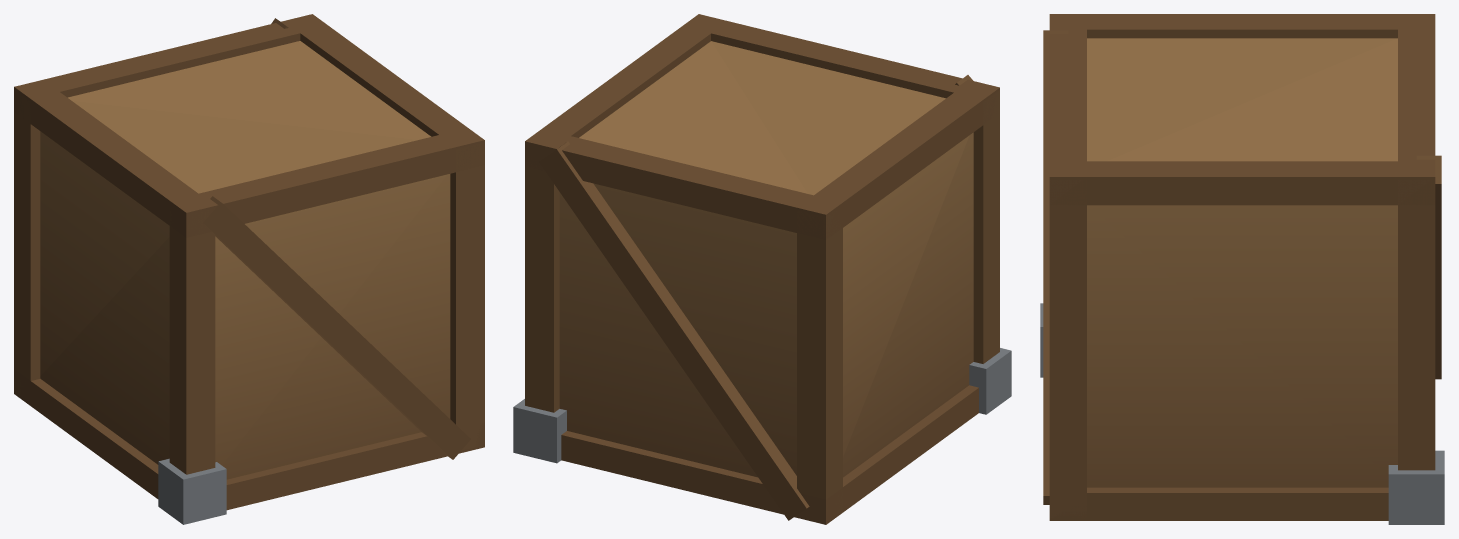
The model's file is crate-01.glb.
The picture shows the model from 3 angles, left to right: view 1: azimuth 30°, elevation 25°; view 2: azimuth 150°, elevation 25°; view 3: azimuth 270°, elevation 25°; orthographic projection. The views are drawn at different scales.
Parts seen in each view (by area): view 1: crate_01; view 2: crate_01; view 3: crate_01.
Boxes of the visible parts, x1,y1,x2,y2 form: crate_01: (14,14,484,524); crate_01: (513,14,1011,524); crate_01: (1040,14,1444,524).
Size of the model in its own units: 0.65 by 0.6194 by 0.65.
